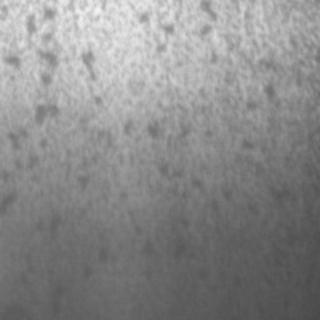pitted_surface: (78, 3, 318, 275), (6, 14, 142, 294)
